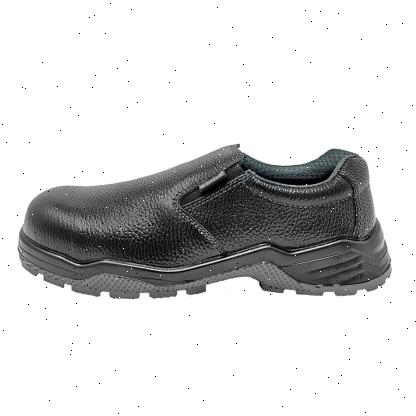bota: (14, 137, 397, 304)
